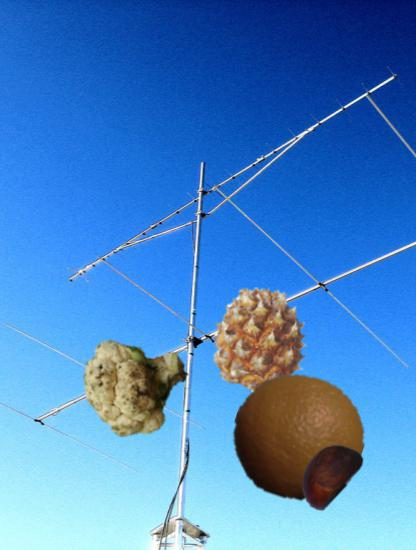Cauliflower: (81, 327, 190, 436)
Chestnut: (291, 436, 366, 511)
Orange: (232, 372, 364, 504)
Pineapple: (207, 285, 316, 394)
